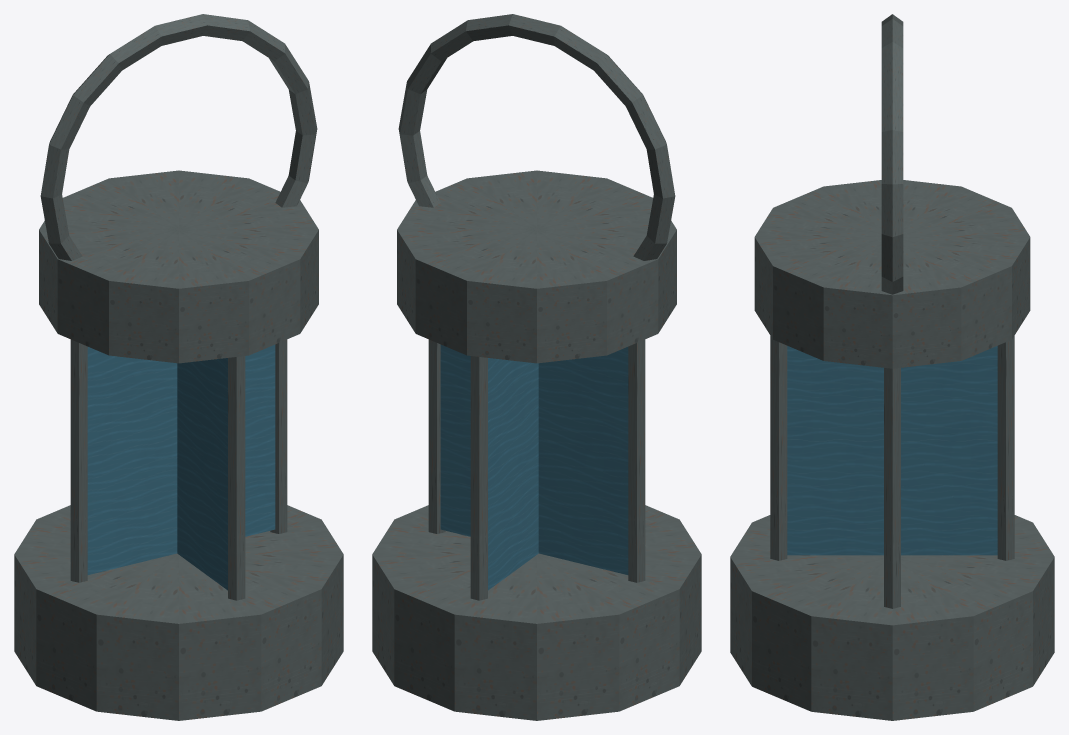
File: pr-008_oil_lantern__off.obj
The picture shows the model from 3 angles, left to right: view 1: azimuth 30°, elevation 25°; view 2: azimuth 150°, elevation 25°; view 3: azimuth 270°, elevation 25°; orthographic projection.
Parts seen in each view (by area): view 1: pr-008_oil_lantern__off; view 2: pr-008_oil_lantern__off; view 3: pr-008_oil_lantern__off.
Boxes of the visible parts, <box> form: pr-008_oil_lantern__off: <box>14,14,343,720</box>; pr-008_oil_lantern__off: <box>372,14,701,720</box>; pr-008_oil_lantern__off: <box>730,14,1054,720</box>.
Bounding box in the file's own units: 0.4 × 0.8461 × 0.4.
2 materials, 2 textured.
